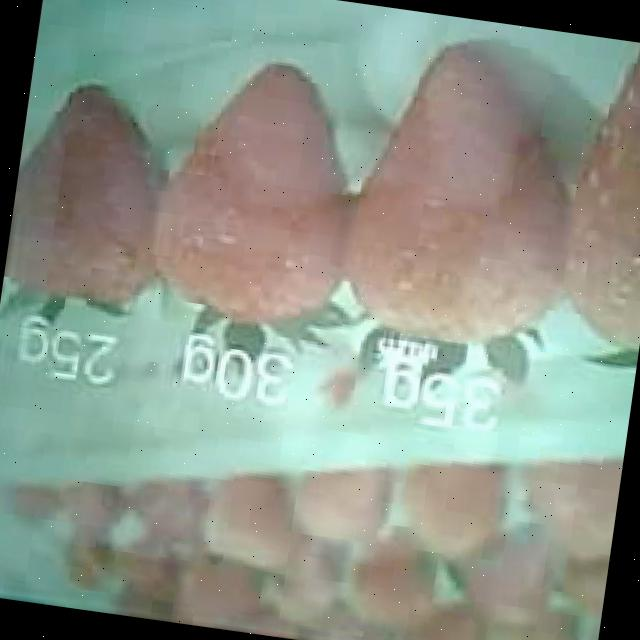strawberry: (340, 38, 588, 348), (148, 49, 368, 328), (1, 72, 175, 310)
